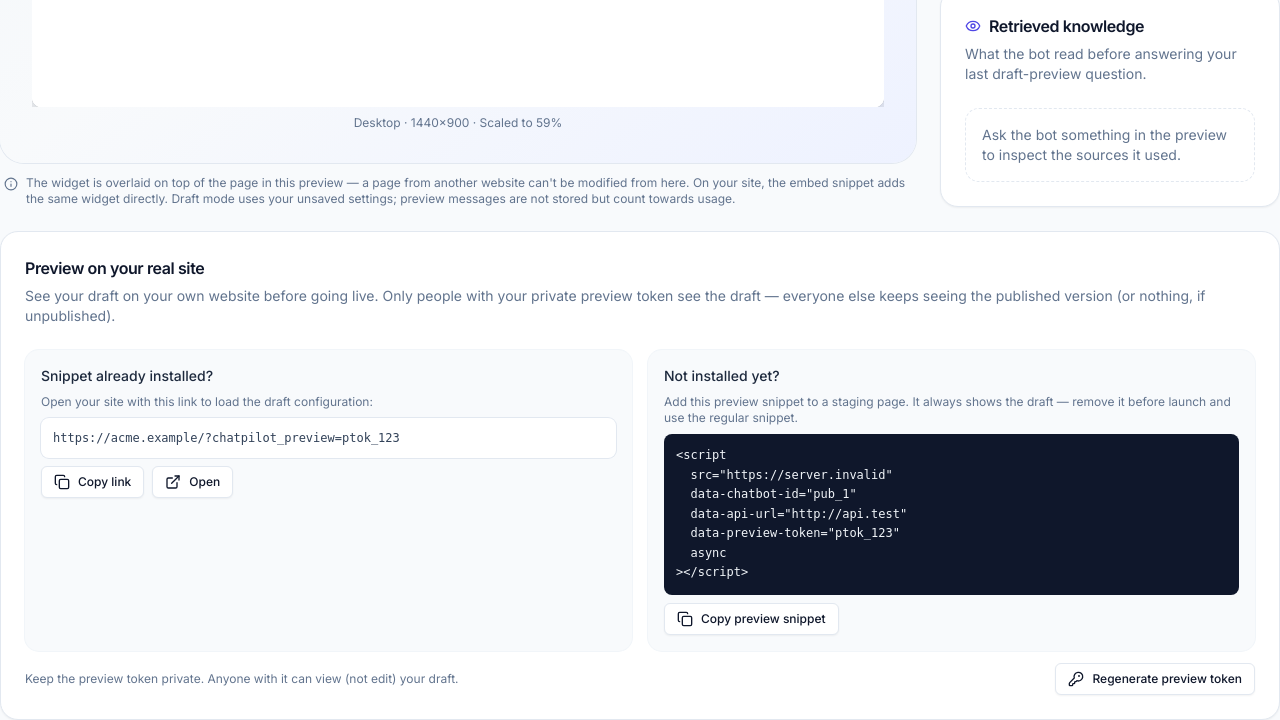
PreviewStudio › regenerates the preview token after confirmation
(page scrolled)
Click the button "Regenerate preview token" at [1155, 678], box [1056,662,1255,694]
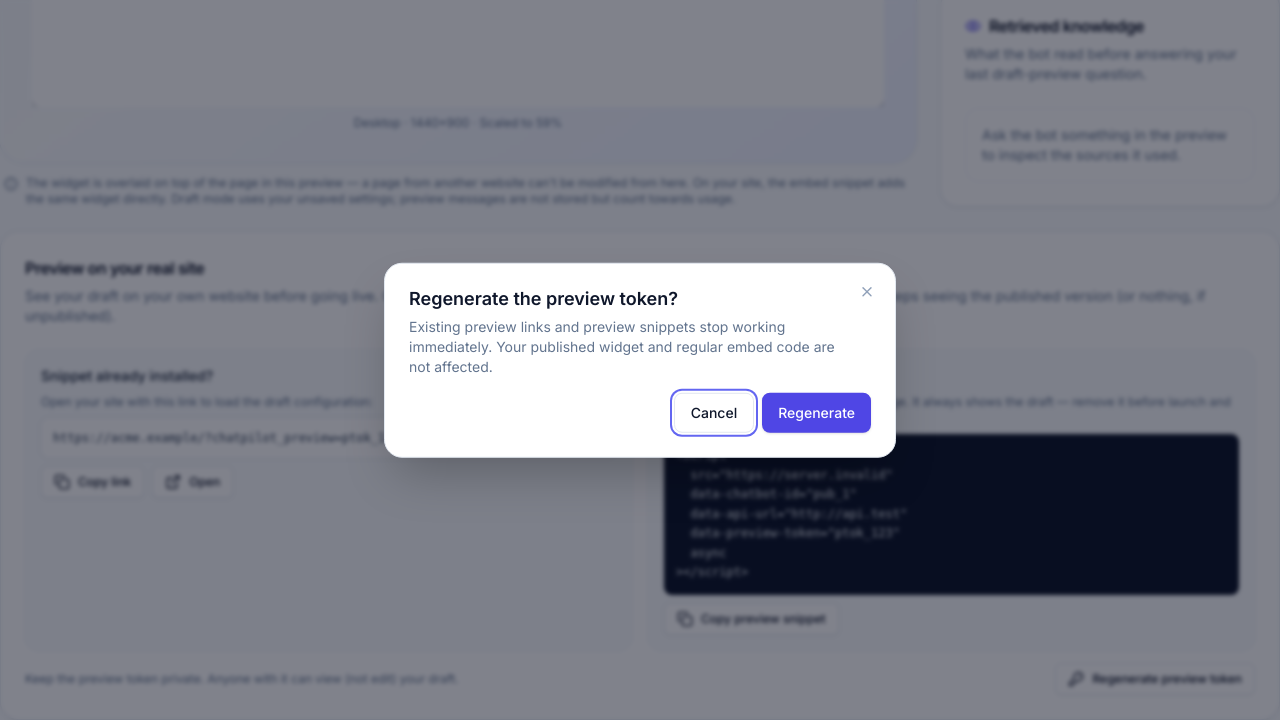
Click the button "Regenerate" at [817, 412], box [762,392,871,432]
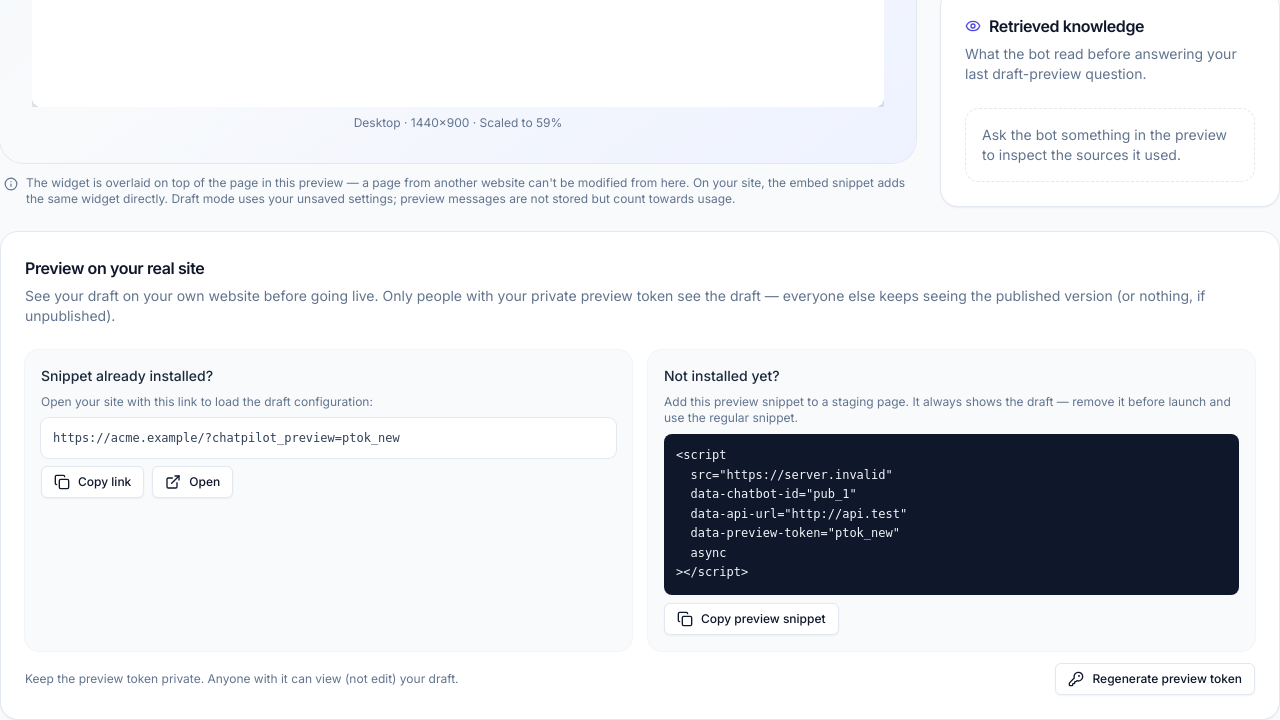
expect the text "https://acme.example/?chatpilot_preview=ptok_new" is shown: met, box [41,418,616,458]
